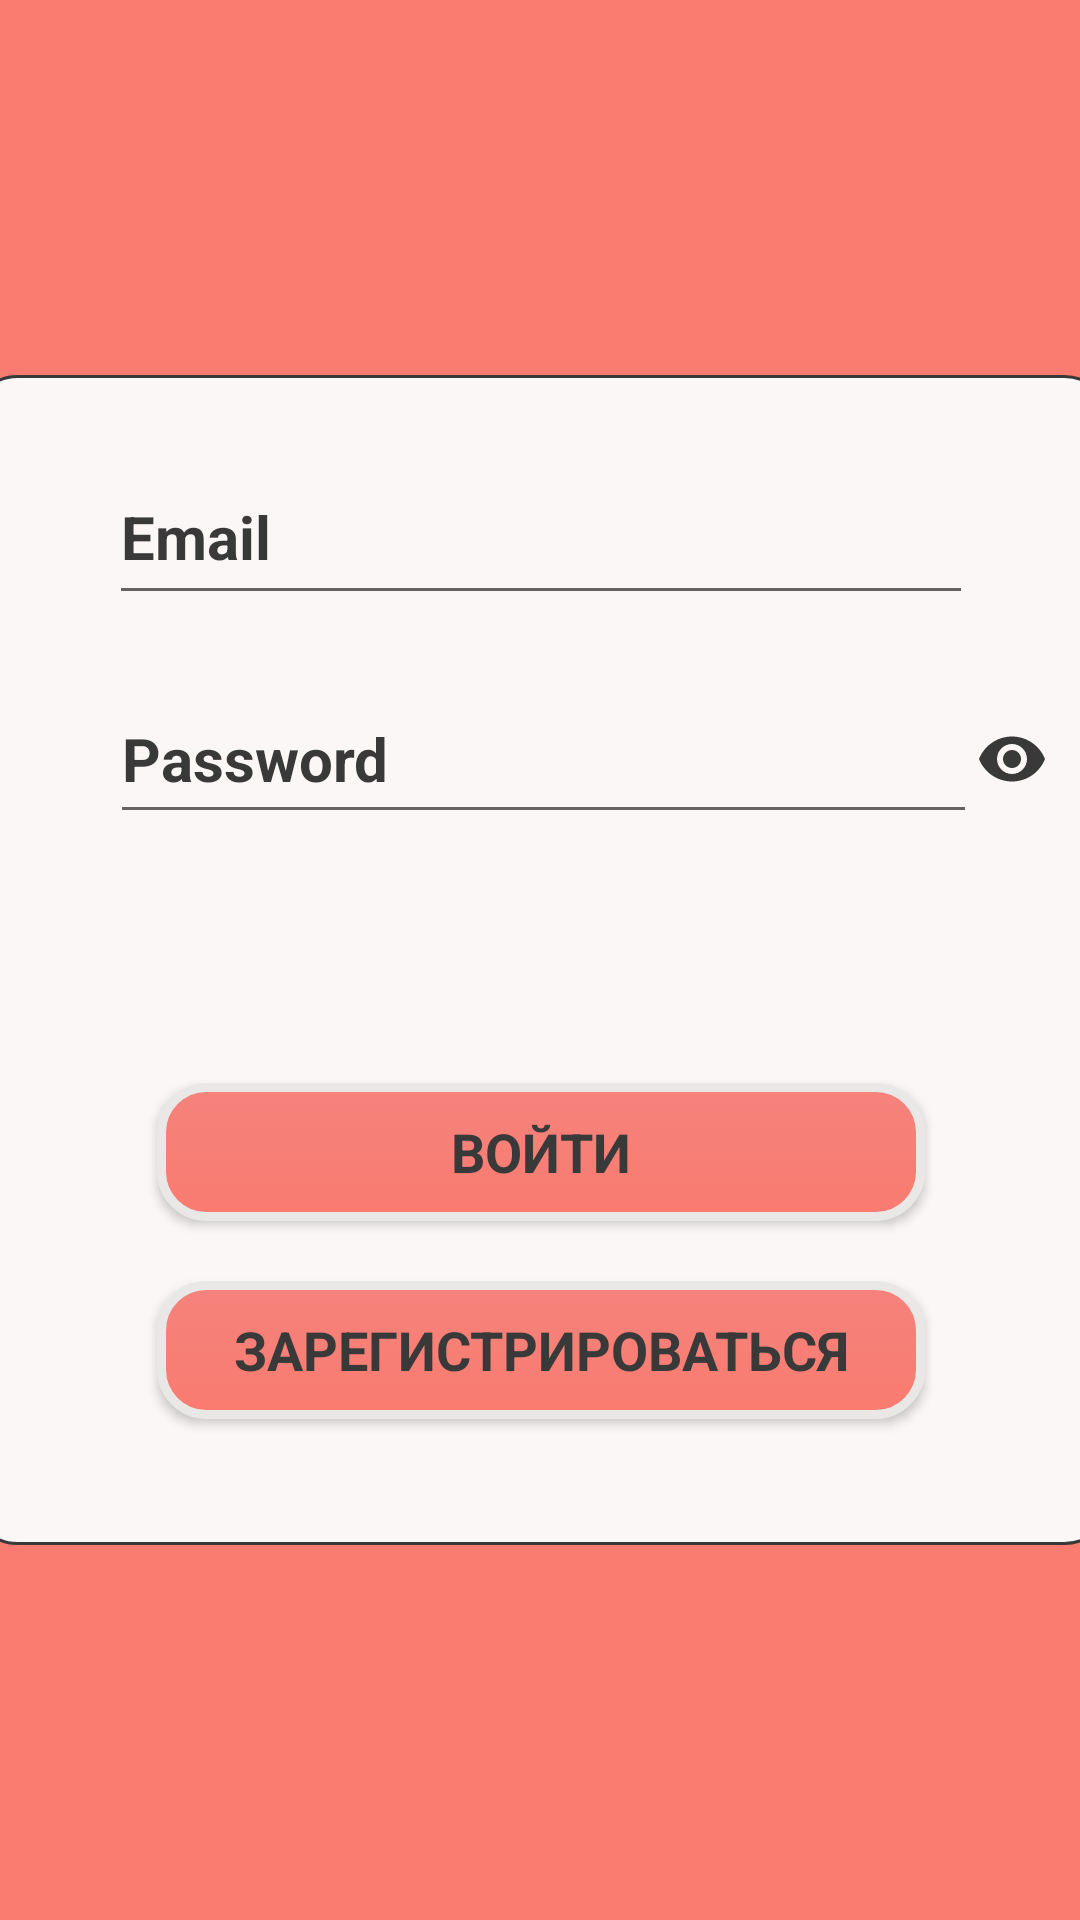

Icon bounding boxes for this 1080w x 1920h phone screenshot, format {"x1": x1, "y1": y1, "x2": x2, "y2": y2}:
check pass eye: {"x1": 979, "y1": 736, "x2": 1045, "y2": 782}
